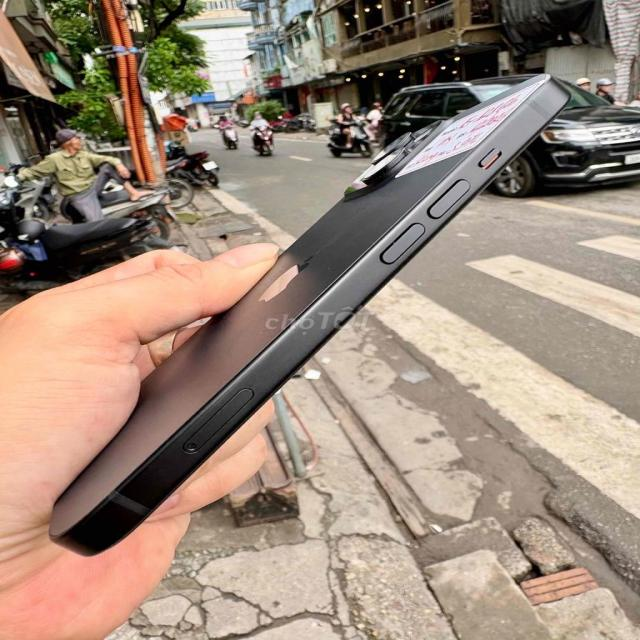gen_15: (40, 66, 580, 560)
